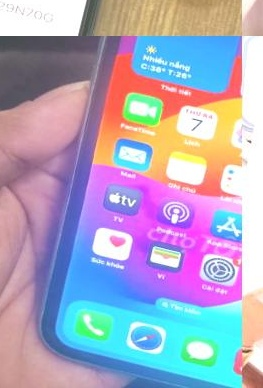scratch: (242, 0, 263, 36)
